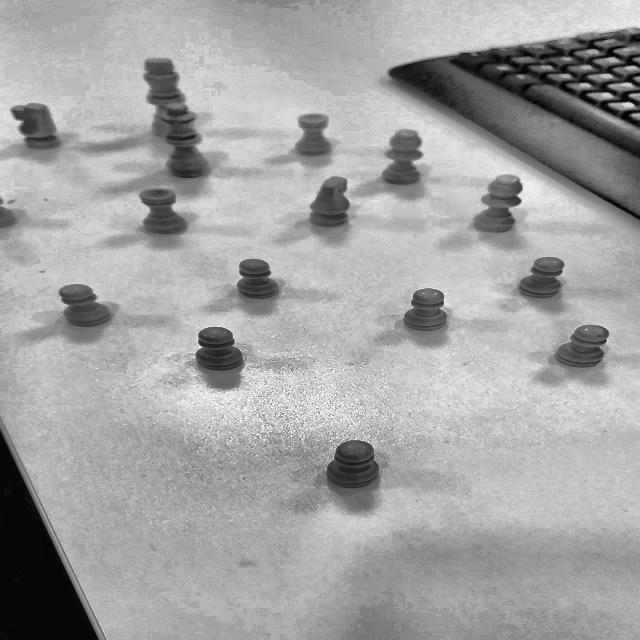white-bishop: (470, 175, 524, 239), (379, 130, 428, 192)
white-king: (135, 55, 207, 147)
white-knight: (3, 101, 71, 150), (308, 177, 359, 236)
white-pawn: (314, 436, 405, 496), (545, 319, 621, 383), (187, 324, 253, 384), (47, 282, 123, 332), (396, 284, 459, 338), (230, 256, 296, 307), (518, 254, 566, 305)
white-queen: (155, 100, 215, 184)
white-rook: (132, 189, 194, 245), (286, 109, 342, 161)
